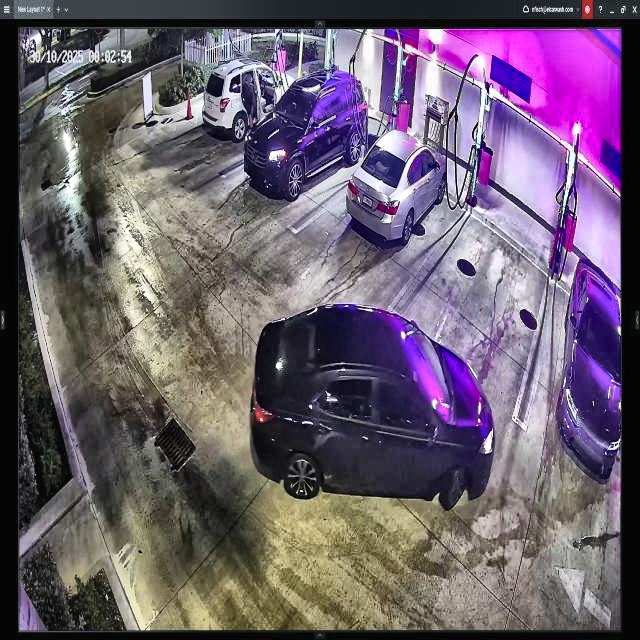Car: (249, 301, 495, 513), (242, 71, 368, 197), (348, 126, 447, 241), (203, 62, 297, 140)
